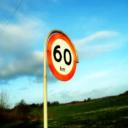speed_limit_60: (46, 32, 80, 82)
